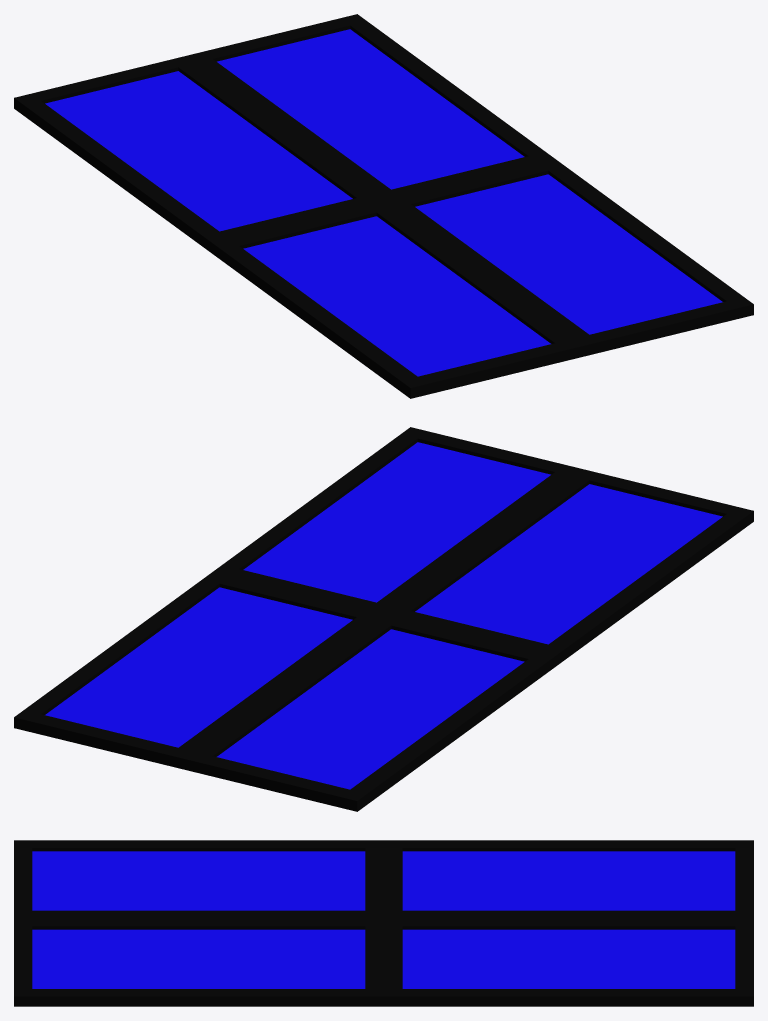
The model's file is FloorGlass.FBX.
3 renders of one model, top to bottom at view 1: azimuth 30°, elevation 25°; view 2: azimuth 150°, elevation 25°; view 3: azimuth 270°, elevation 25°, orthographic. The views are drawn at different scales.
Parts seen in each view (by area): view 1: Glass, Floor; view 2: Glass, Floor; view 3: Glass, Floor.
Part boxes in pixels (box(x1,y1,x2,y2)): Glass: box(45, 29, 722, 376); Floor: box(14, 14, 753, 398); Glass: box(45, 442, 722, 789); Floor: box(14, 427, 753, 811); Glass: box(32, 851, 735, 988); Floor: box(14, 840, 753, 1006).
Bounding box in the file's own units: 394 × 11.81 × 787.
